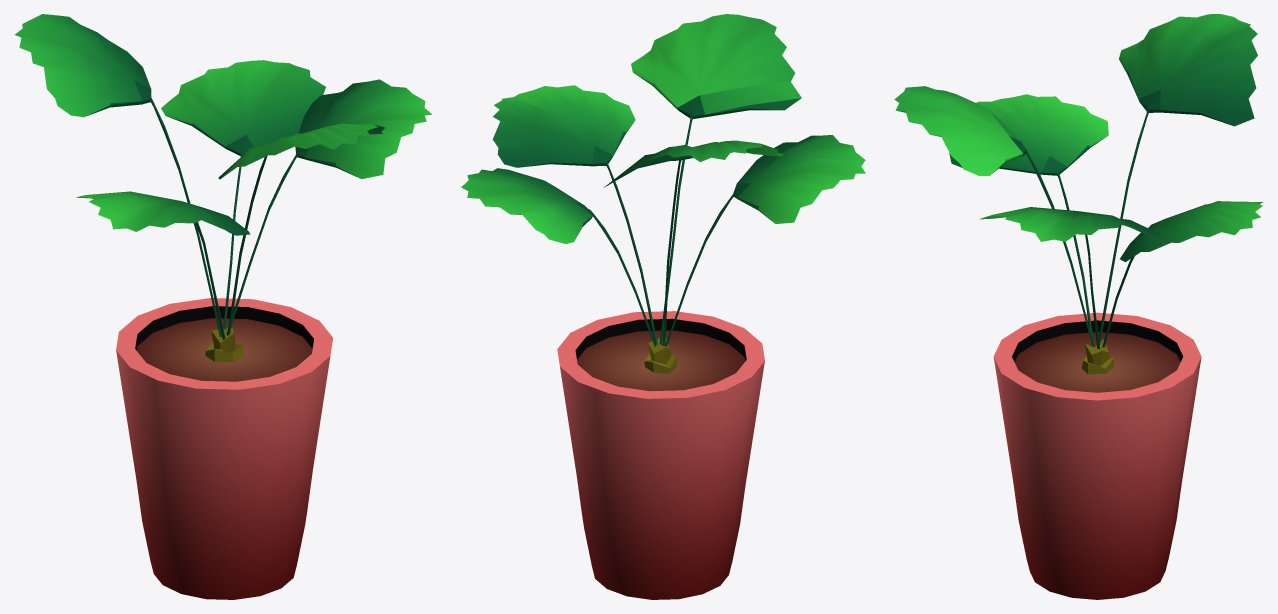
File: Plant 6.fbx
The picture shows the model from 3 angles, left to right: view 1: azimuth 30°, elevation 25°; view 2: azimuth 150°, elevation 25°; view 3: azimuth 270°, elevation 25°; orthographic projection. The views are drawn at different scales.
Visible parts, largest first — view 1: Pot 6, Plant 6; view 2: Pot 6, Plant 6; view 3: Pot 6, Plant 6.
Part boxes in pixels (bbox=[...]): Pot 6: bbox=[116, 298, 332, 599]; Plant 6: bbox=[15, 14, 431, 361]; Pot 6: bbox=[557, 311, 764, 599]; Plant 6: bbox=[461, 14, 865, 373]; Pot 6: bbox=[993, 312, 1201, 599]; Plant 6: bbox=[894, 14, 1263, 374].
Size of the model in its own units: 367 by 524 by 355.
